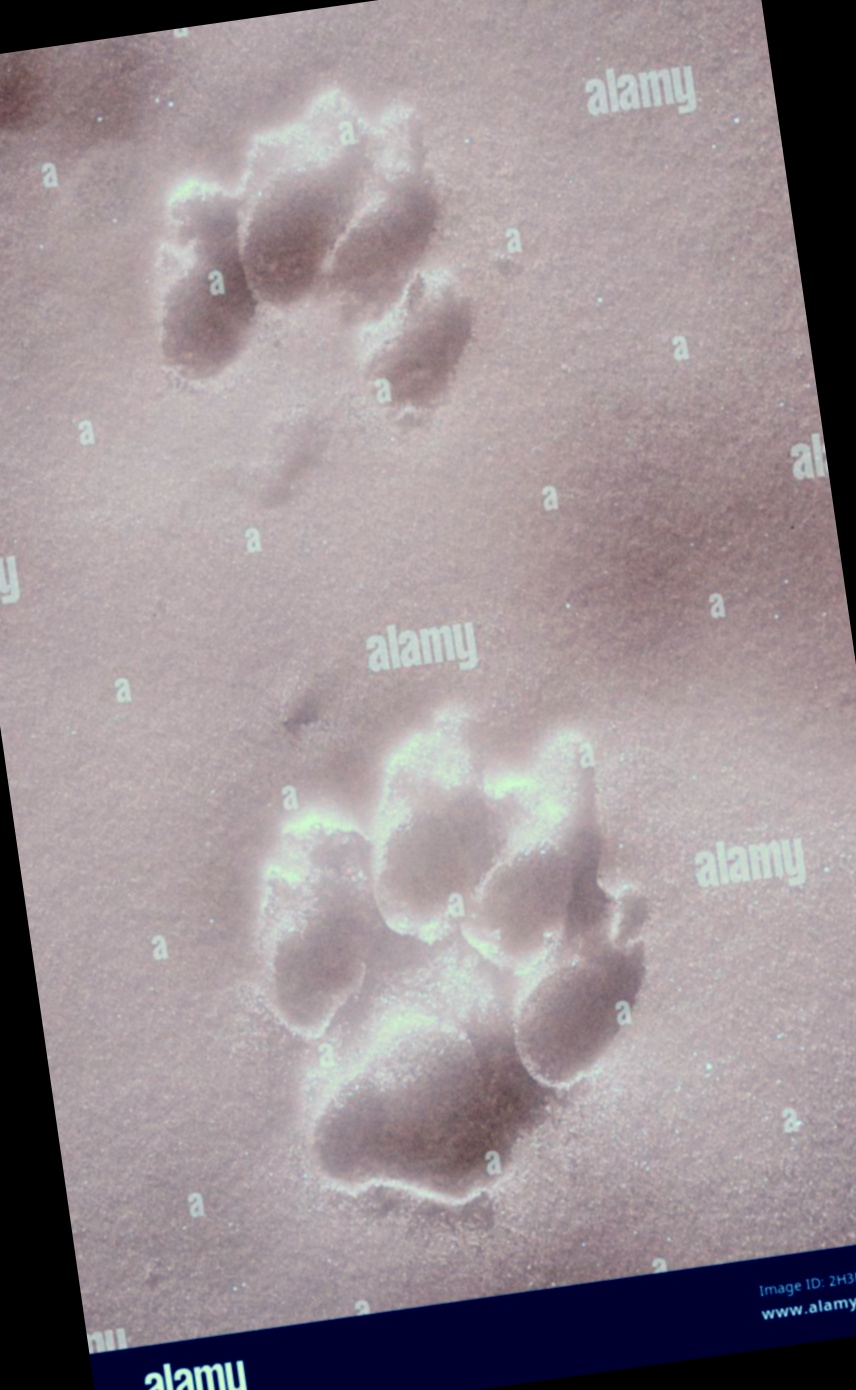loup: (166, 660, 645, 1226), (158, 52, 585, 543)
